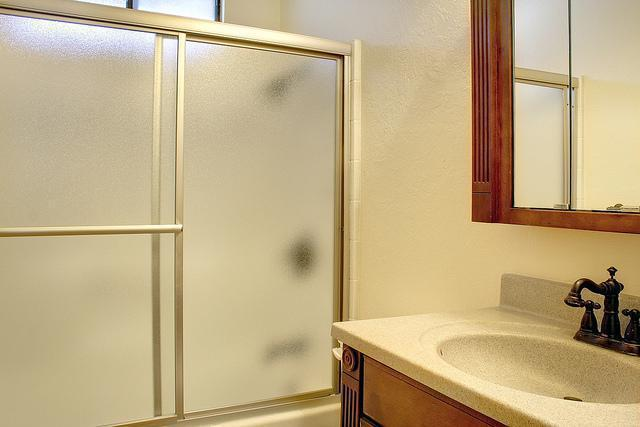Ducha: (0, 39, 356, 426)
Lavamanos: (343, 270, 639, 426)
